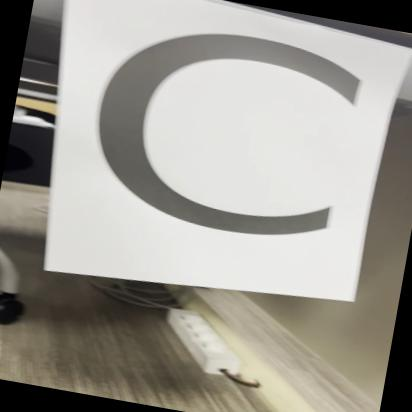seat: (31, 0, 403, 299)
